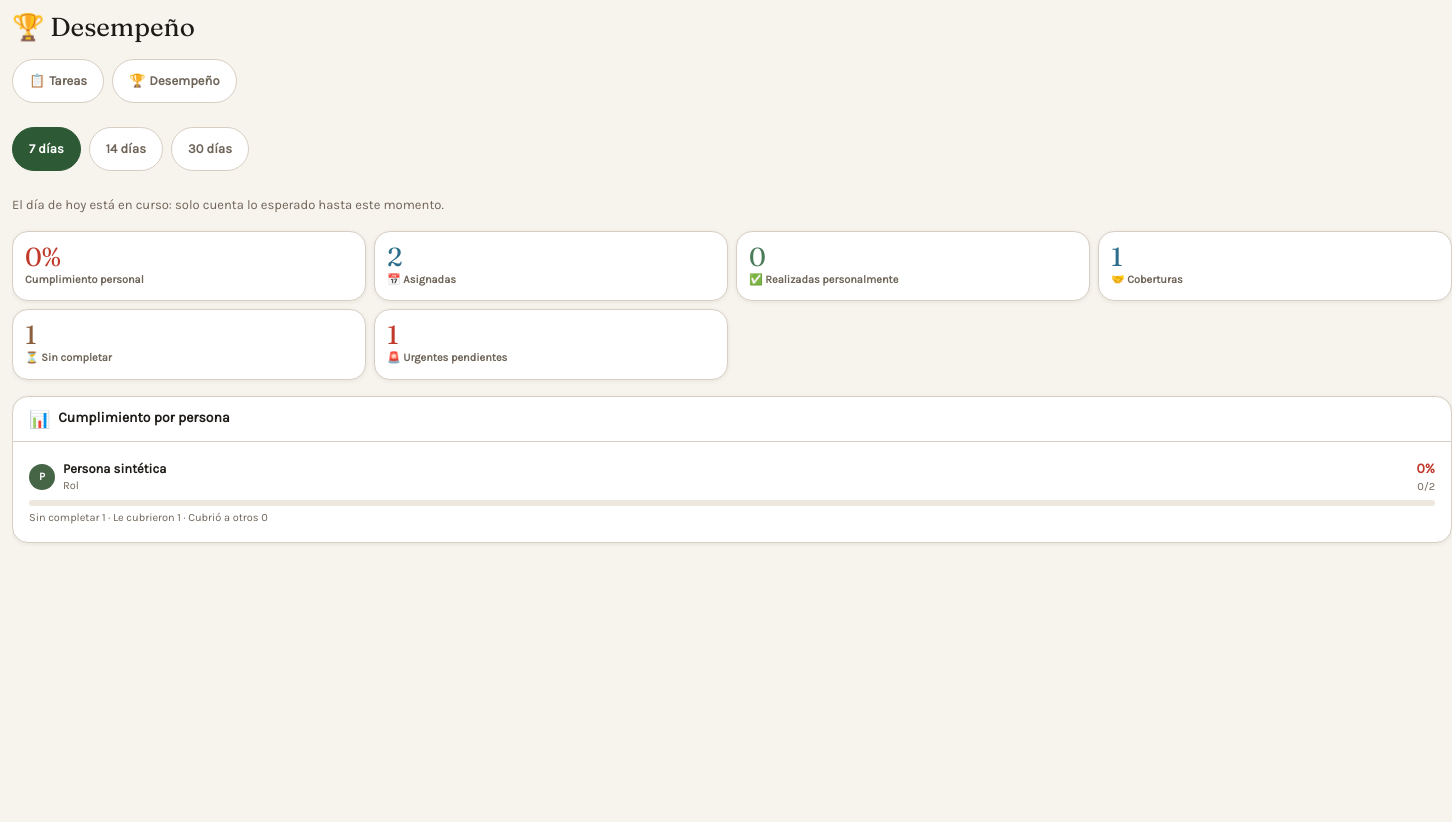
Test: PerformanceScreen › abre el detalle bajo demanda
Click the button "Persona sintética" at [115, 468], box [29,450,1435,534]
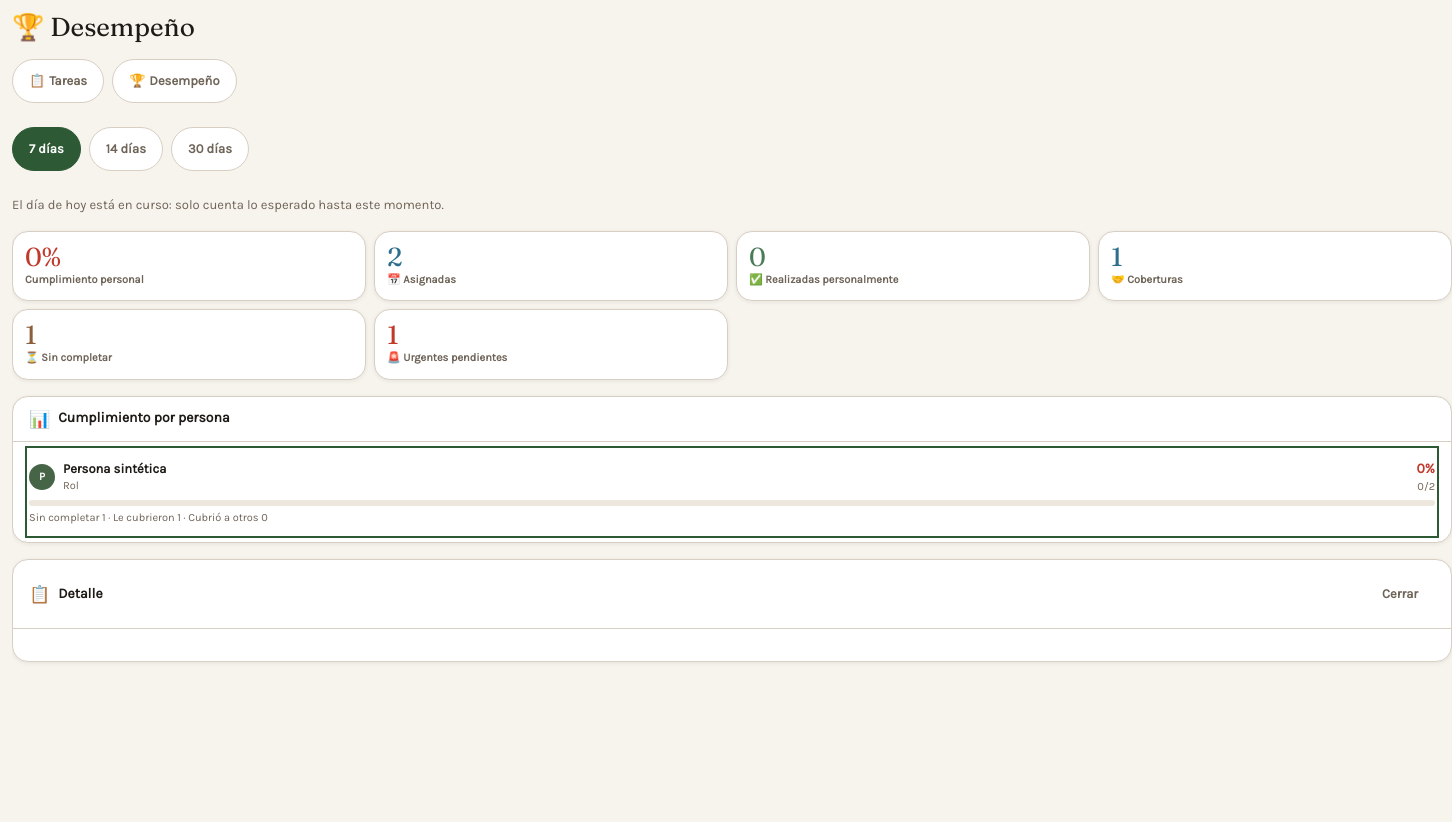
Check: the heading "📋 Detalle" is shown, box [29,584,103,604]
